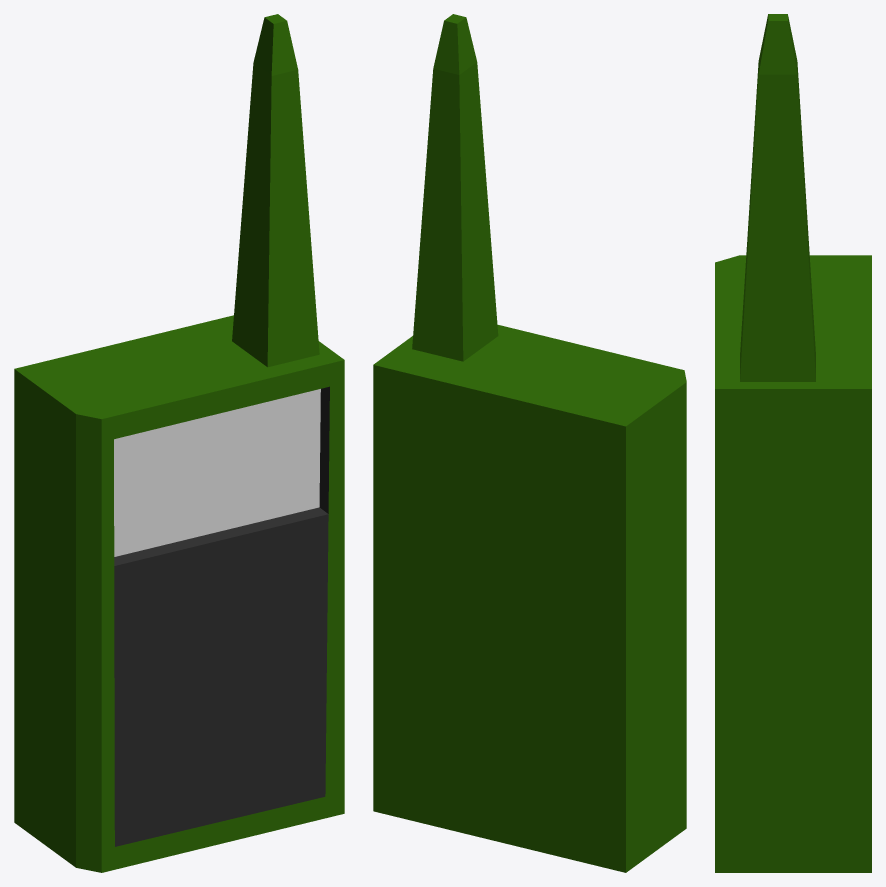
The model's file is PortableRadio.fbx.
3 views of the same model, side by side, from view 1: azimuth 30°, elevation 25°; view 2: azimuth 150°, elevation 25°; view 3: azimuth 270°, elevation 25° (orthographic). The views are drawn at different scales.
Visible parts, largest first — view 1: Portable Radio; view 2: Portable Radio; view 3: Portable Radio.
Part boxes in pixels (bbox=[...]): Portable Radio: bbox=[14, 14, 344, 872]; Portable Radio: bbox=[373, 14, 686, 872]; Portable Radio: bbox=[715, 14, 871, 872].
Bounding box in the file's own units: 119 × 345 × 58.73.
